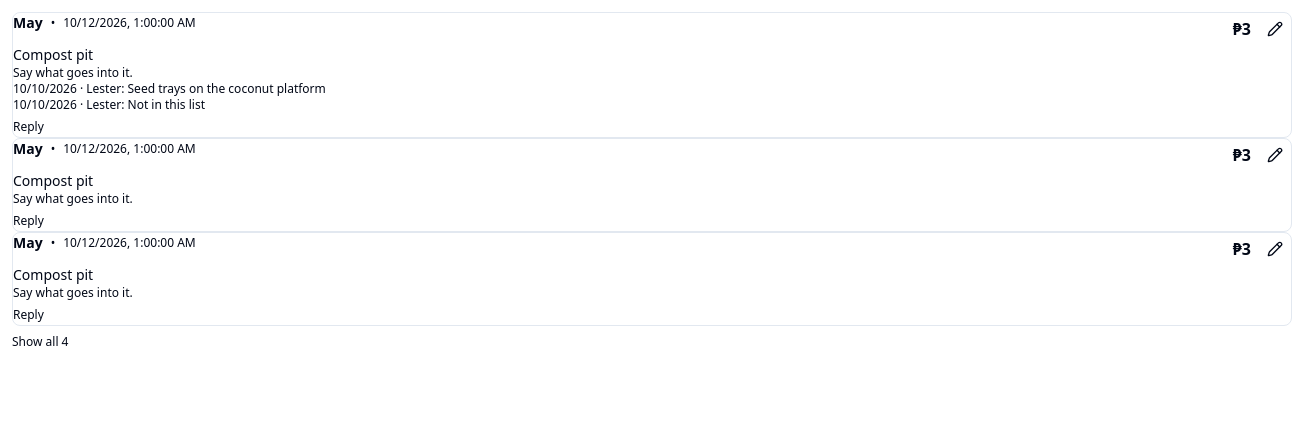
Scenario: SharedObservations › links each earlier observation the reading compared it with, opening the list to reach one further down
Expected: the text "Trays watered" is not shown
Click the button "10/10/2026 · Lester: Seed trays on the coconut platform".
click(169, 89)  # box [13,81,326,97]
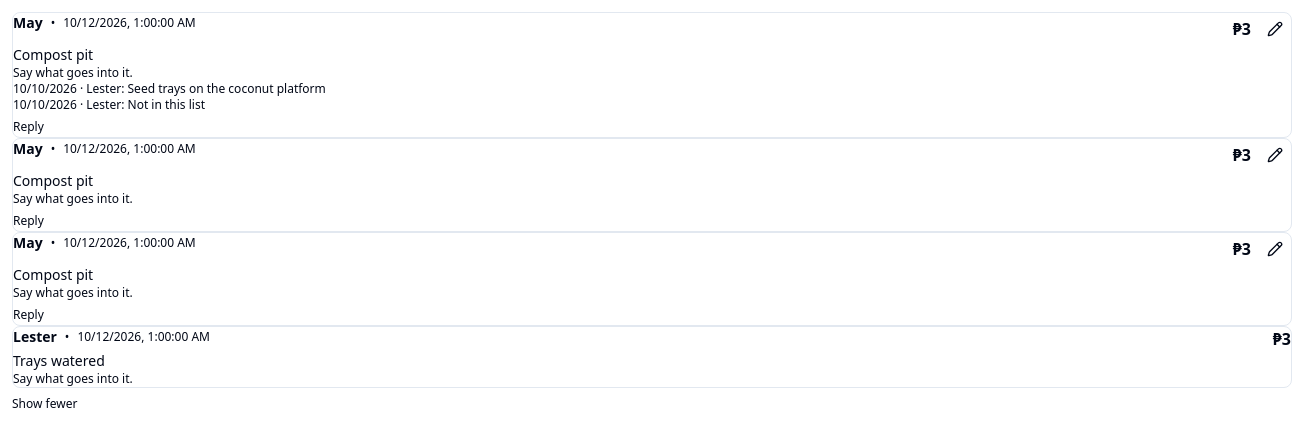
Expected: the text "Trays watered" is shown, [13,351,105,370]
